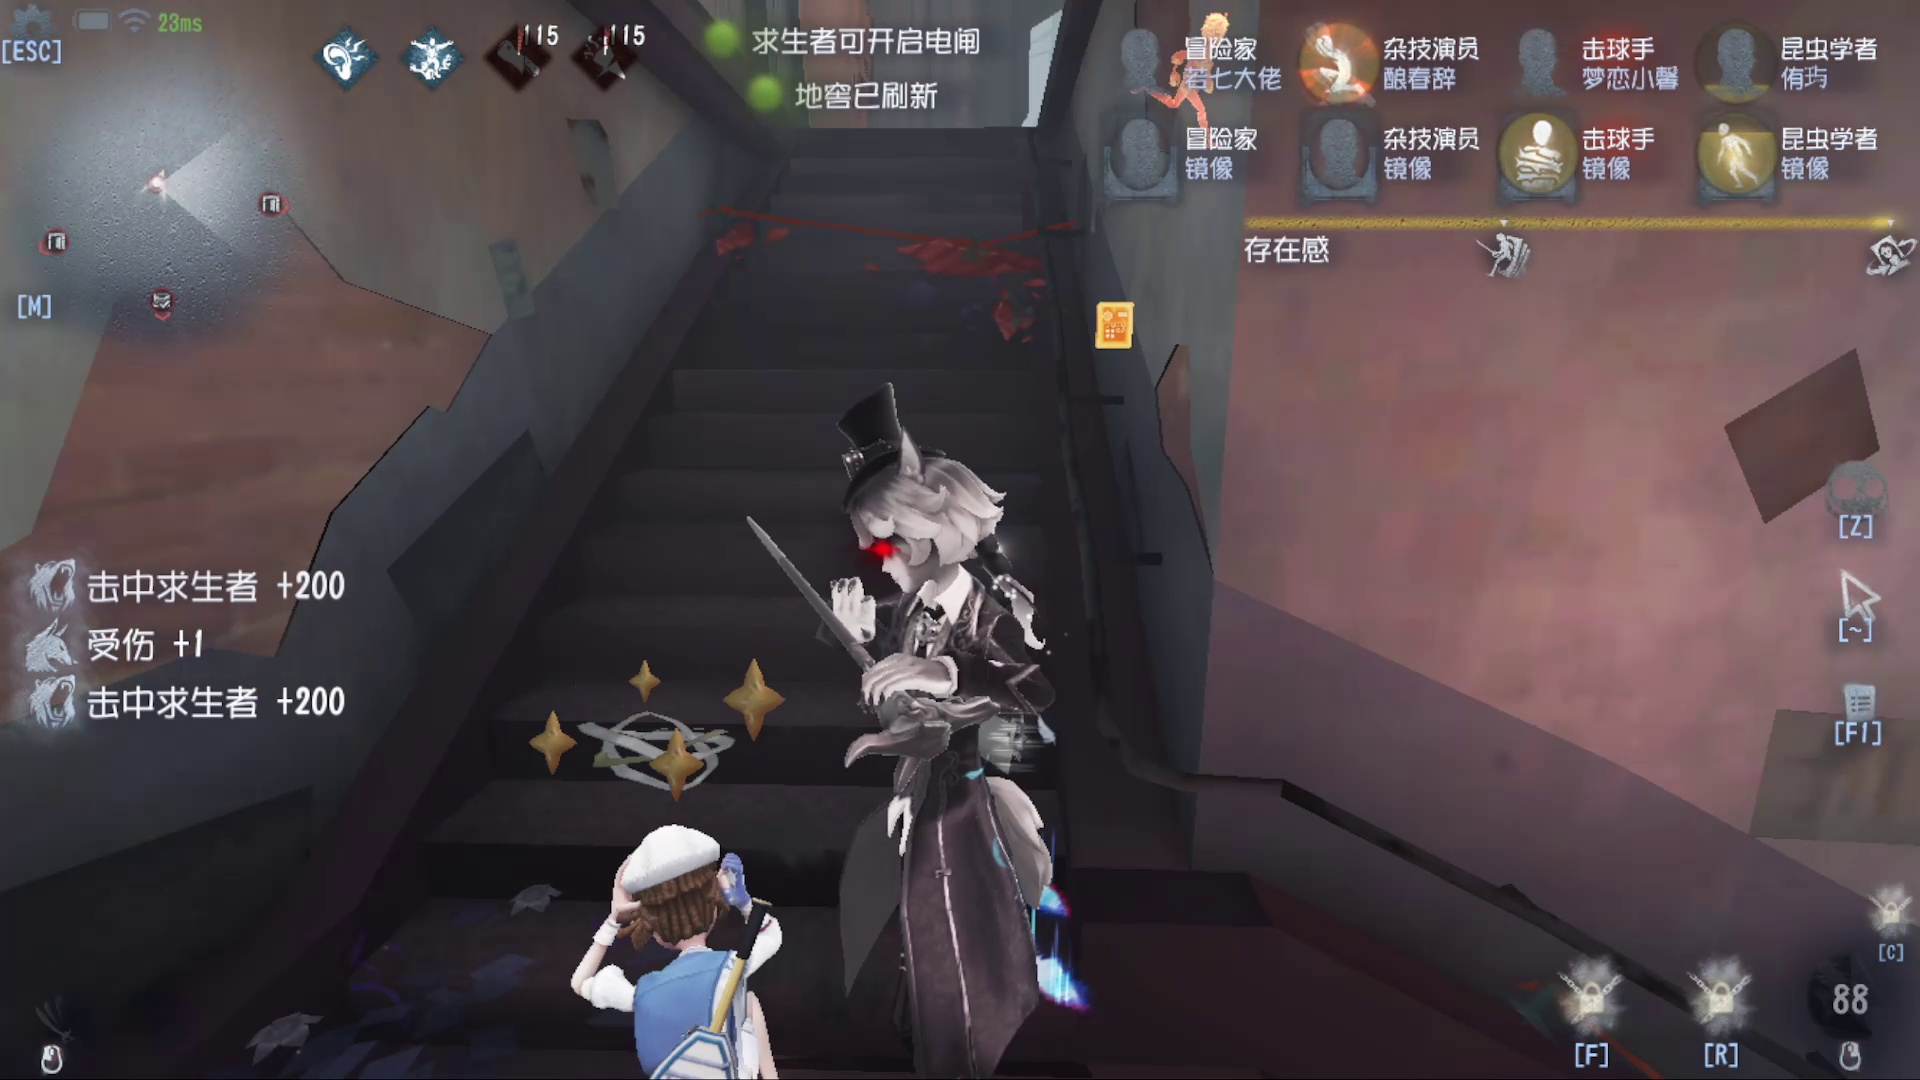求生者: (568, 735, 777, 1077)
脚印: (729, 156, 1084, 360)
